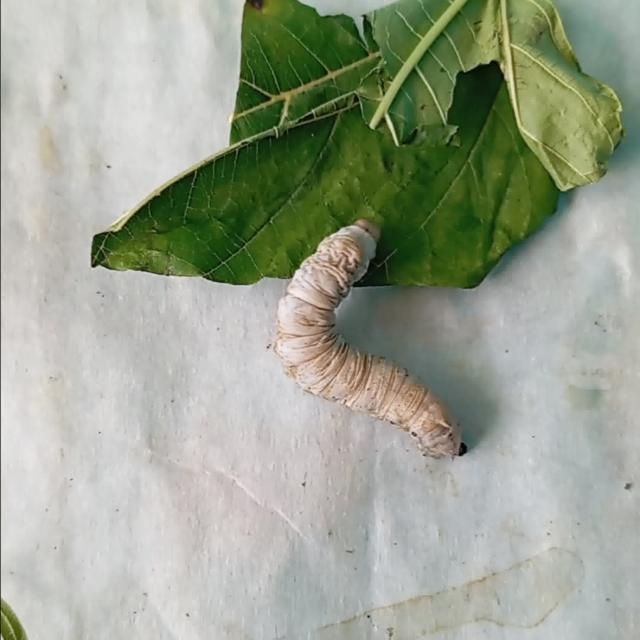Grasserie: (251, 196, 483, 464)
